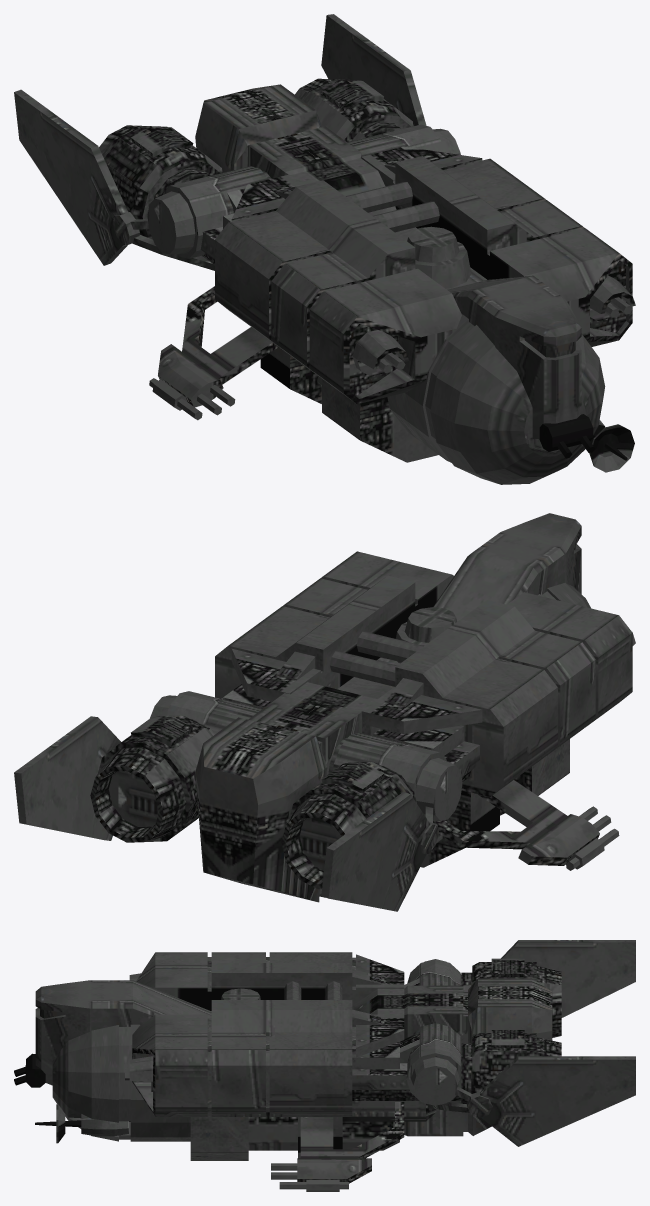
3 views of the same model, one above another, from view 1: azimuth 30°, elevation 25°; view 2: azimuth 150°, elevation 25°; view 3: azimuth 270°, elevation 25° (orthographic). The views are drawn at different scales.
Visible parts, largest first — view 1: Hull; view 2: Hull, engine; view 3: Hull.
Part boxes in pixels (x1,y1,x2,y2): Hull: (14, 14, 635, 484); Hull: (14, 513, 635, 911); engine: (109, 771, 341, 870); Hull: (14, 940, 635, 1191).
Size of the model in its own units: 82.4 by 36.59 by 135.
